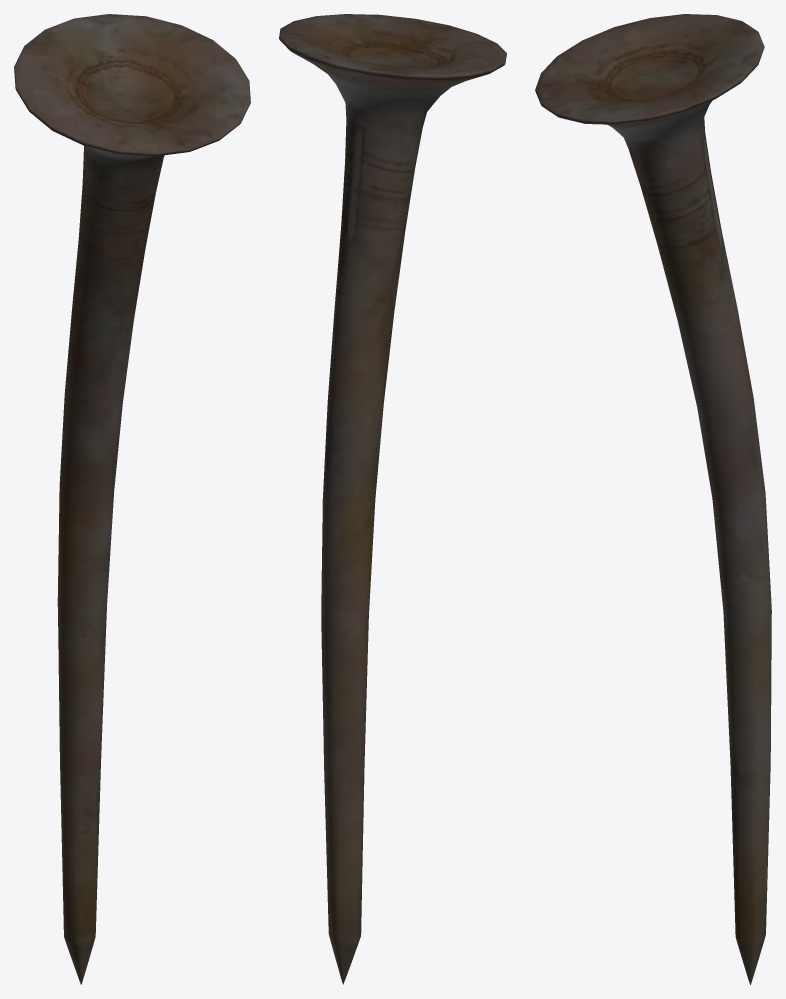
File: s_clavo.glb
3 renders of one model, left to right at view 1: azimuth 30°, elevation 25°; view 2: azimuth 150°, elevation 25°; view 3: azimuth 270°, elevation 25°, orthographic. The views are drawn at different scales.
Visible parts, largest first — view 1: Object_2; view 2: Object_2; view 3: Object_2.
Part boxes in pixels (box(x1,y1,x2,y2)): Object_2: box(14, 14, 250, 984); Object_2: box(279, 14, 506, 984); Object_2: box(535, 14, 771, 984).
Size of the model in its own units: 0.0226 by 0.1 by 0.0228.
1 material, 1 textured.
